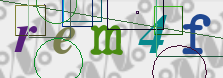4: (135, 12, 171, 57)
e: (49, 24, 80, 58)
f: (177, 10, 213, 59)
m: (85, 19, 128, 61)
r: (10, 21, 41, 57)
